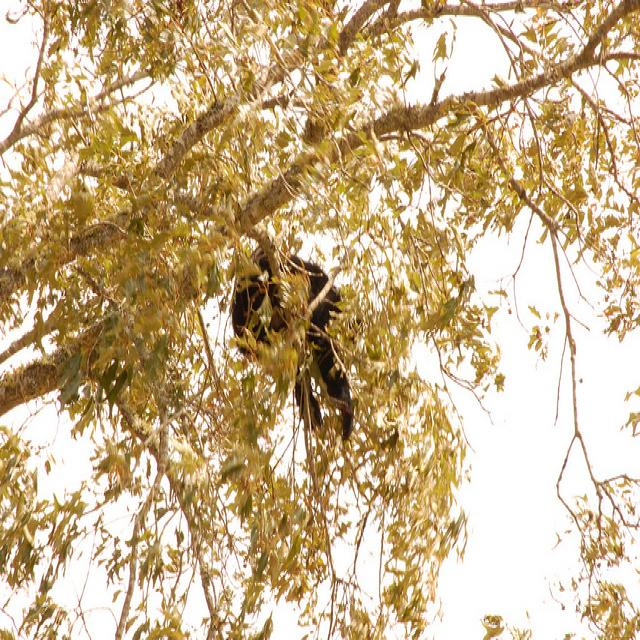Bear: (222, 232, 369, 435)
